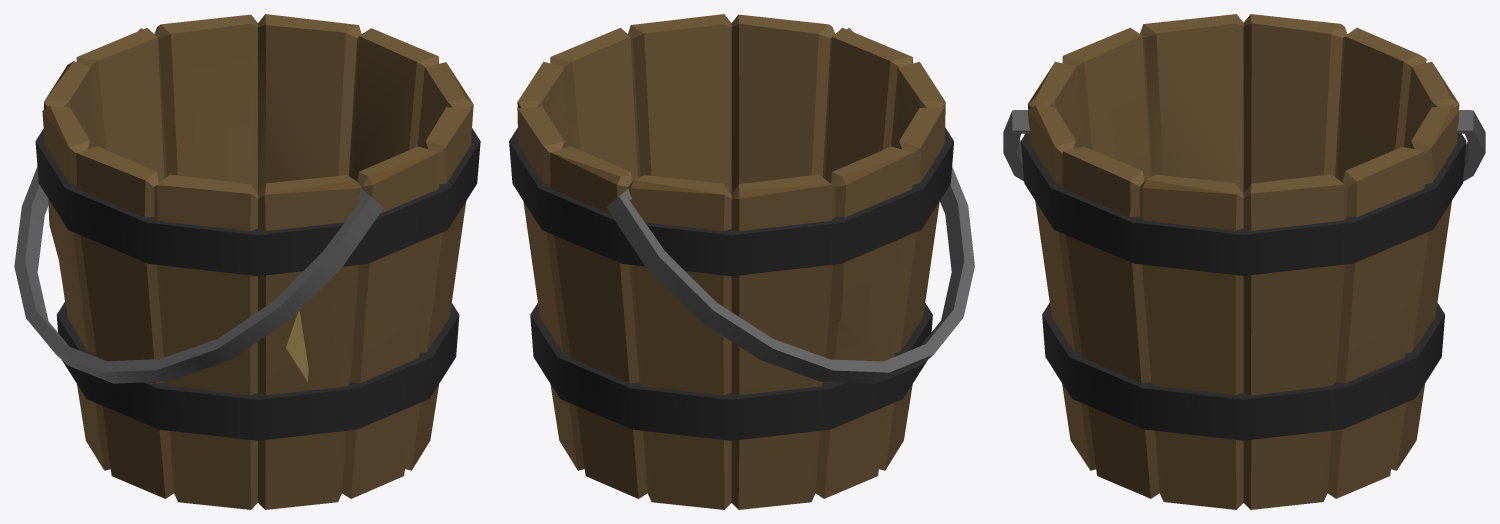
Rendered from EA03_Prop_Container_Basket_03a.glb.
3 views of the same model, side by side, from view 1: azimuth 30°, elevation 25°; view 2: azimuth 150°, elevation 25°; view 3: azimuth 270°, elevation 25° (orthographic).
Visible parts, largest first — view 1: EA03_Prop_Container_Basket_03a; view 2: EA03_Prop_Container_Basket_03a; view 3: EA03_Prop_Container_Basket_03a.
Boxes of the visible parts, left/top/right/bottom form: EA03_Prop_Container_Basket_03a: left=14, top=14, right=480, bottom=509; EA03_Prop_Container_Basket_03a: left=509, top=14, right=974, bottom=509; EA03_Prop_Container_Basket_03a: left=1003, top=14, right=1485, bottom=509.
Size of the model in its own units: 0.3174 by 0.2574 by 0.3354.
Materials: 1 (1 with a texture image).
